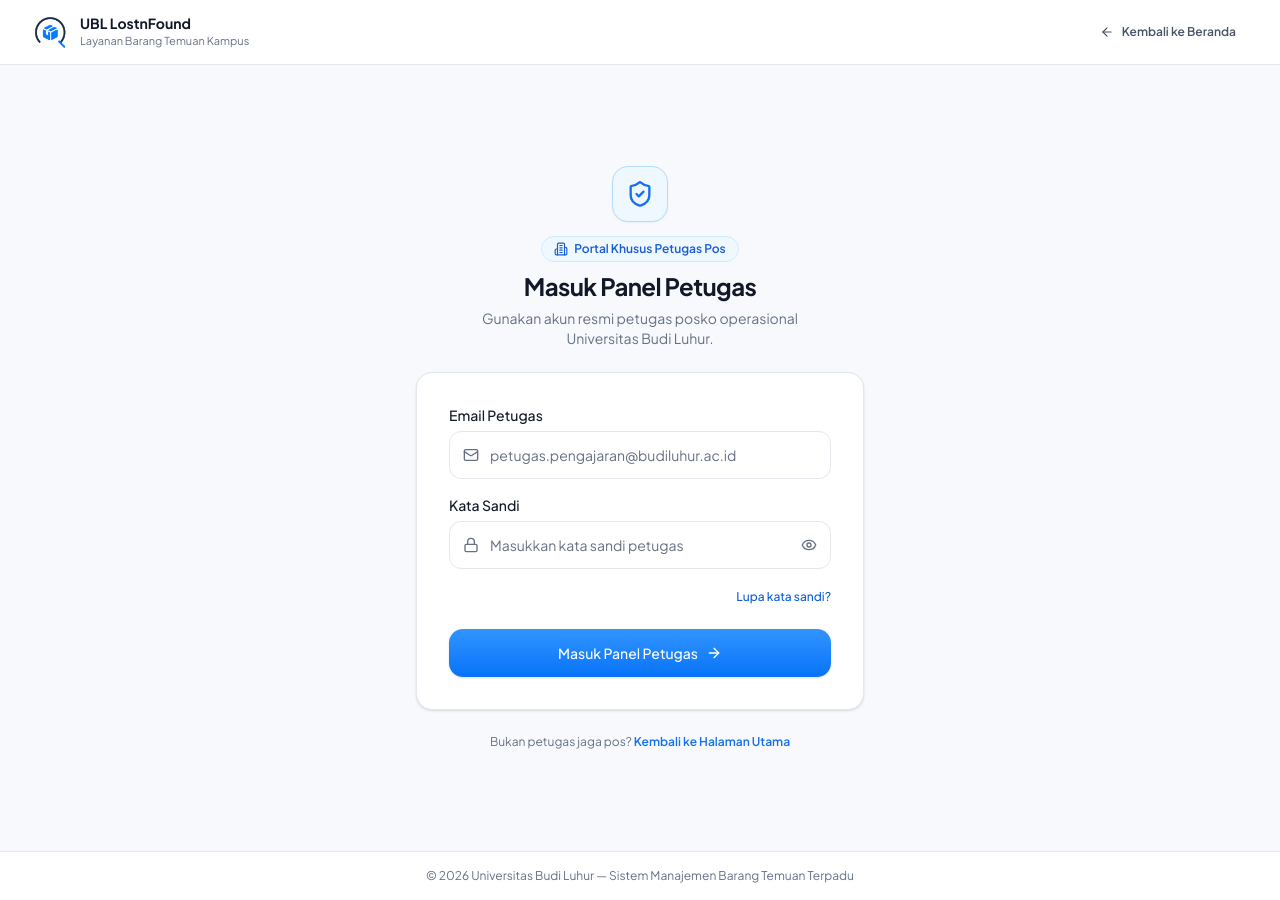
Scenario: OfficerLoginPage Component Tests › displays error banner when authentication fails
Type "salah@budiluhur.ac.id" into the field labelled "Email Petugas". click: (640, 455)
box: [449, 431, 831, 479]
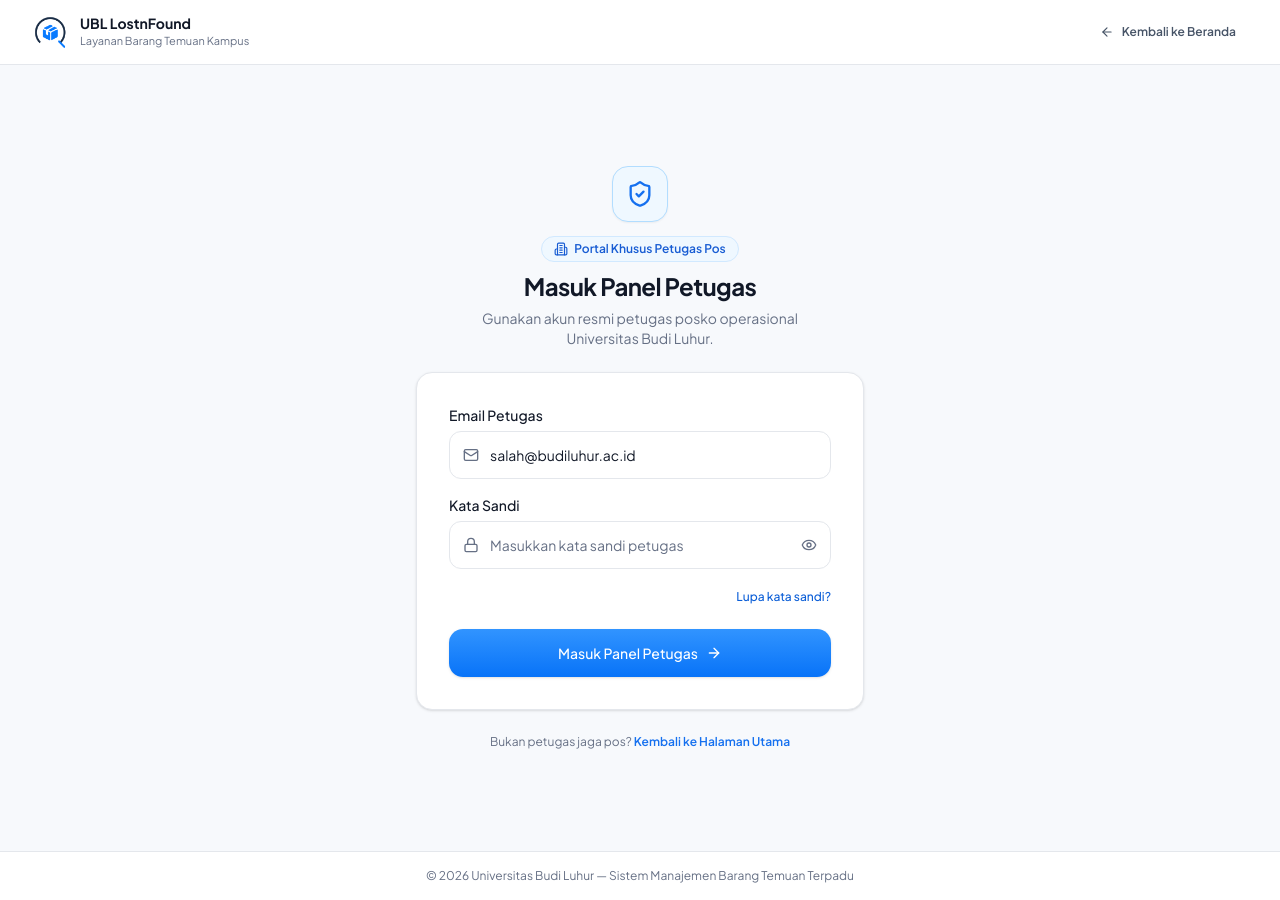
Type "sandiSalah" into the password field labelled "Kata Sandi". click: (640, 545)
box: [449, 521, 831, 569]
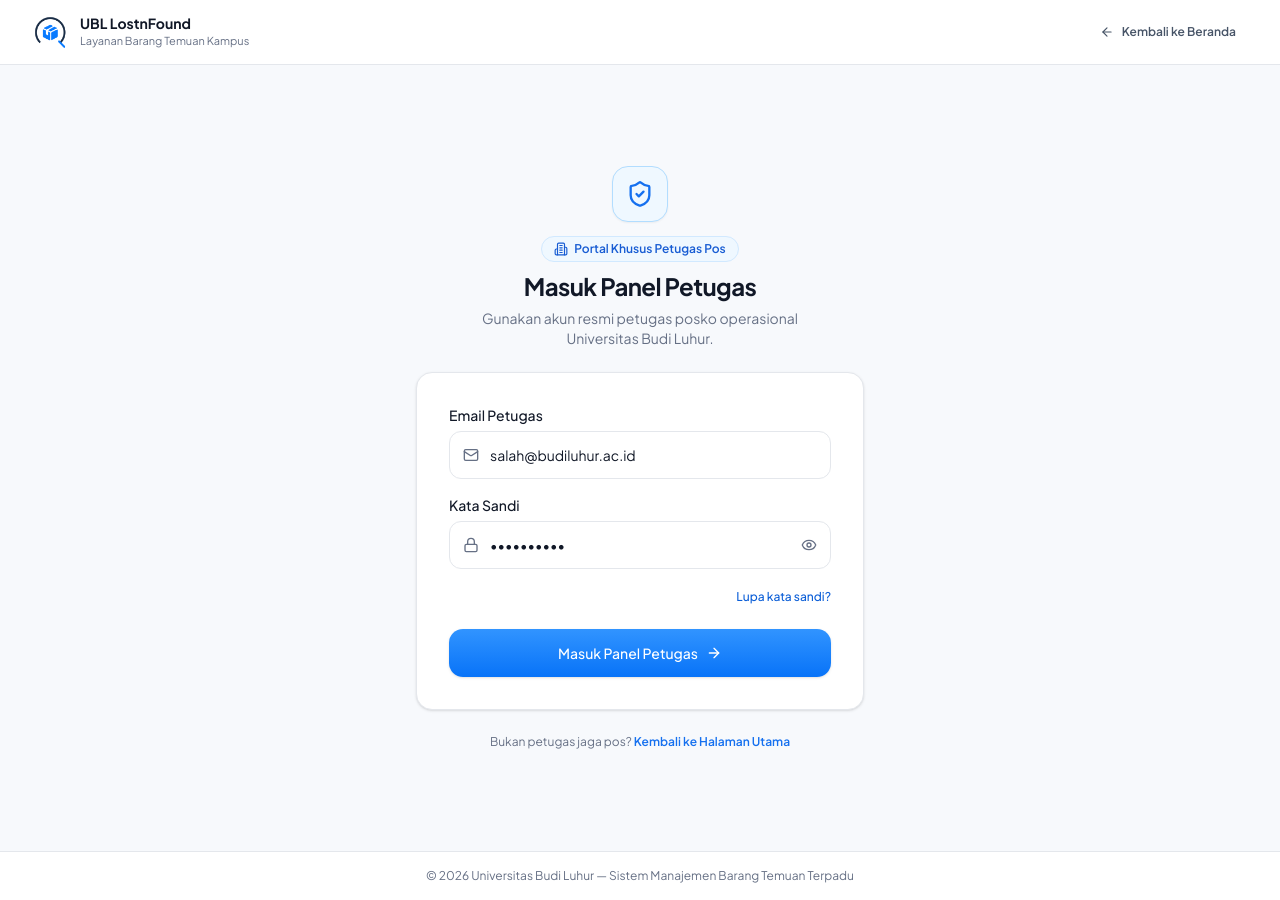
Click the button "Masuk Panel Petugas". click: (640, 653)
box: [449, 629, 831, 677]
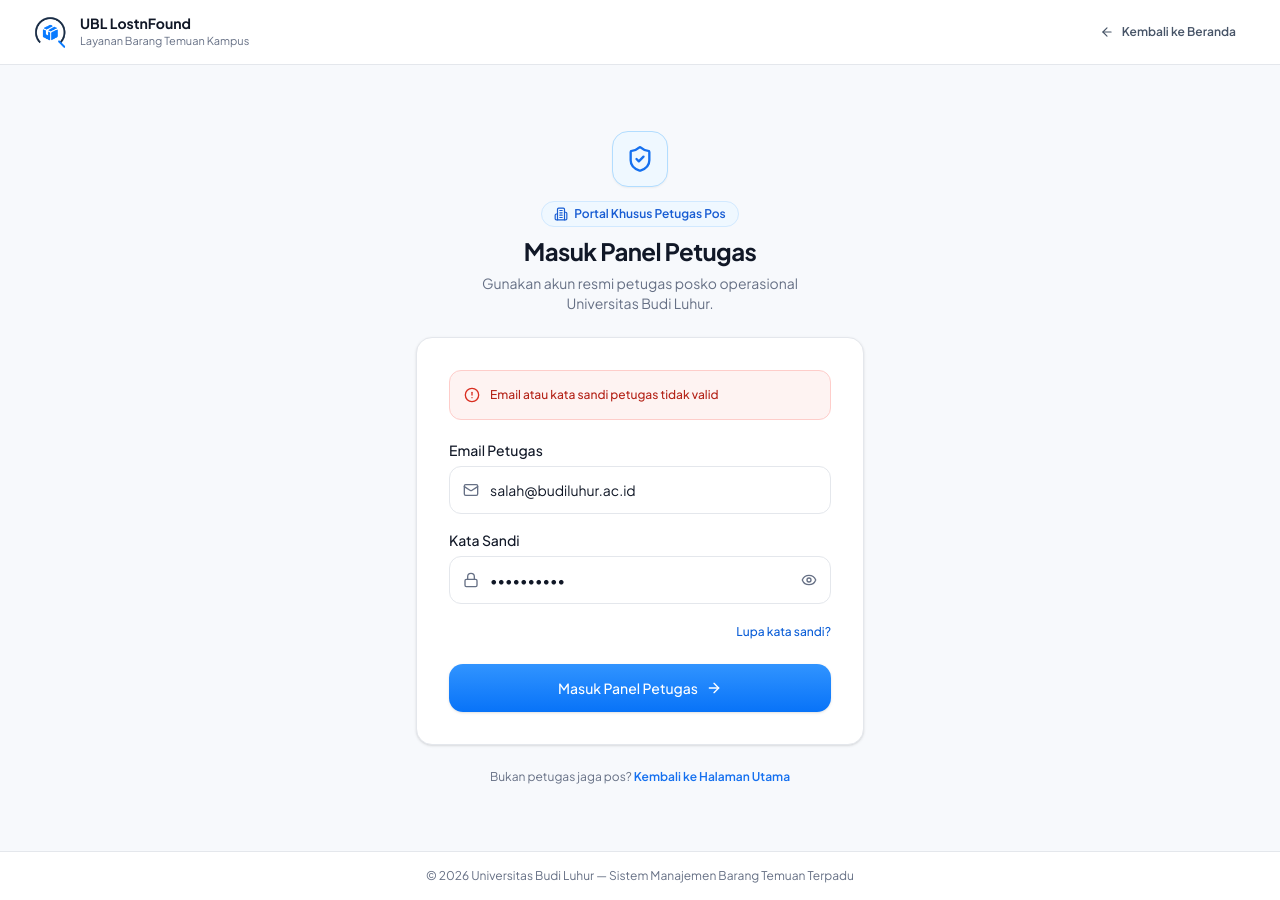
expect the message "Email atau kata sandi petugas tidak valid" is shown: met, box [449, 370, 831, 420]
expect the message reads "Email atau kata sandi petugas tidak valid": met, box [490, 387, 718, 402]
